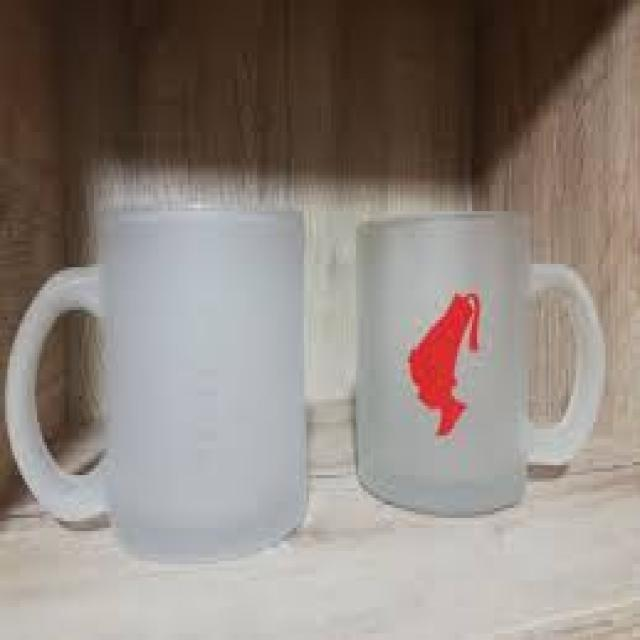taza: (3, 182, 324, 558), (341, 206, 614, 518)
